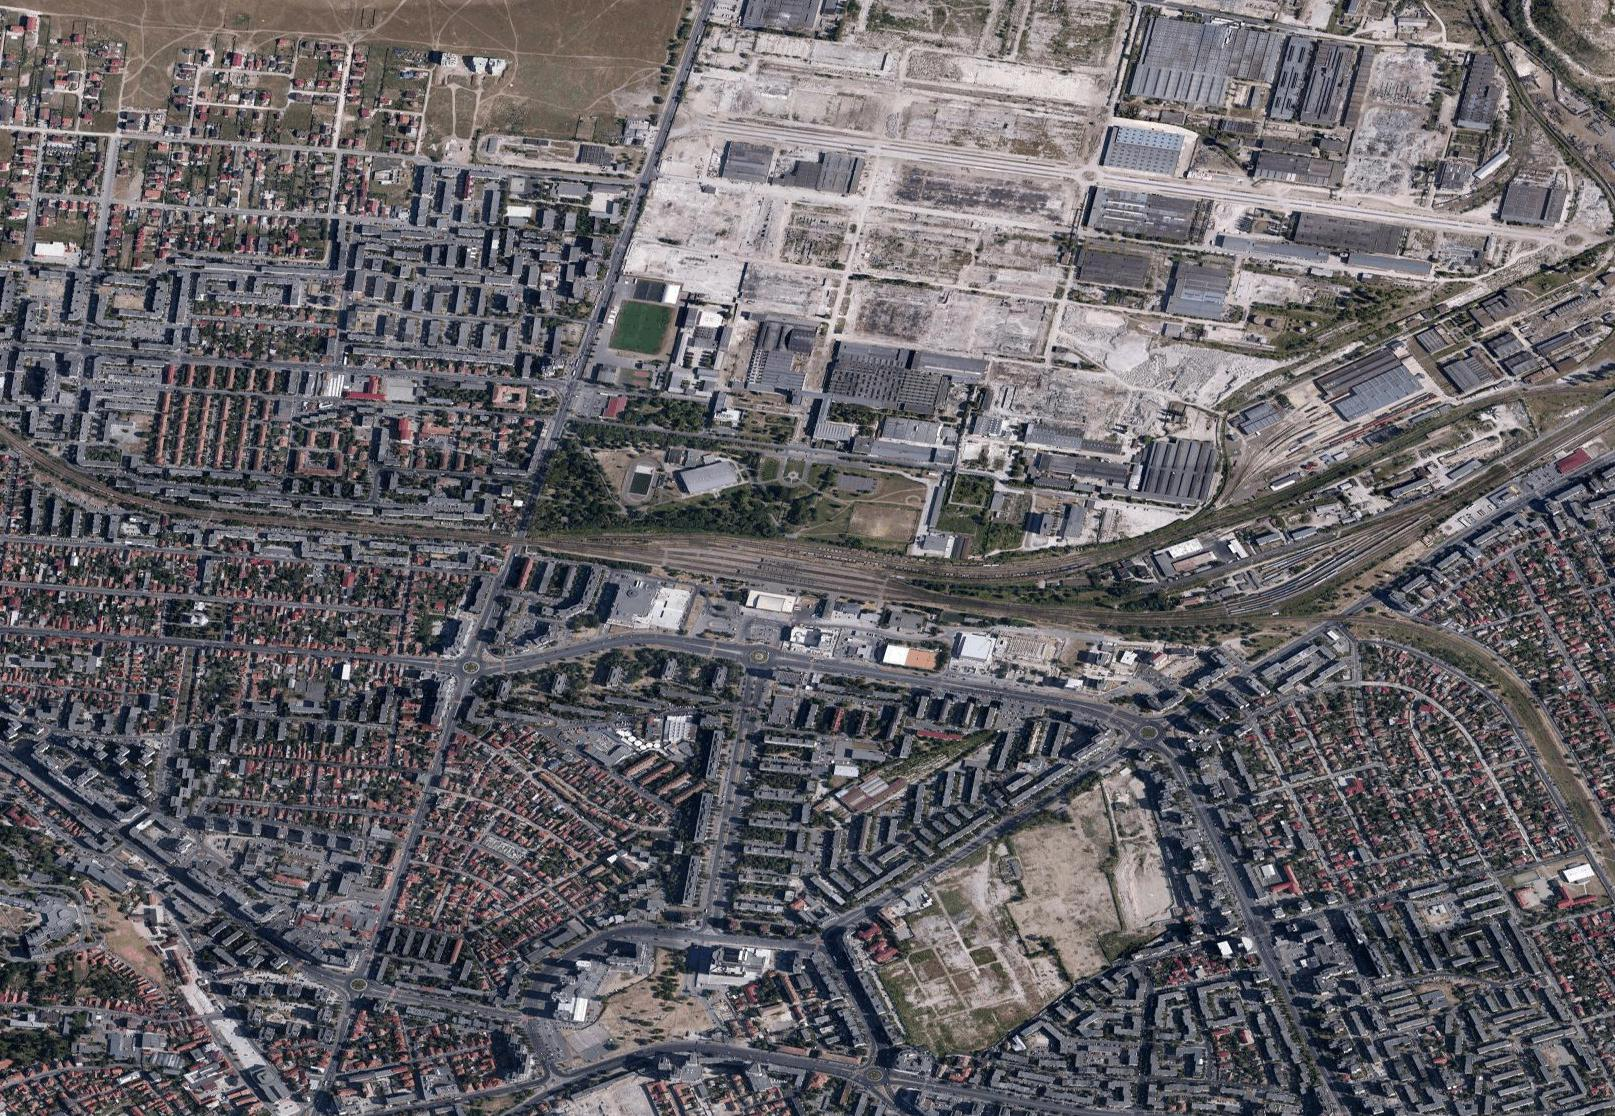train_station: (652, 537, 911, 622)
